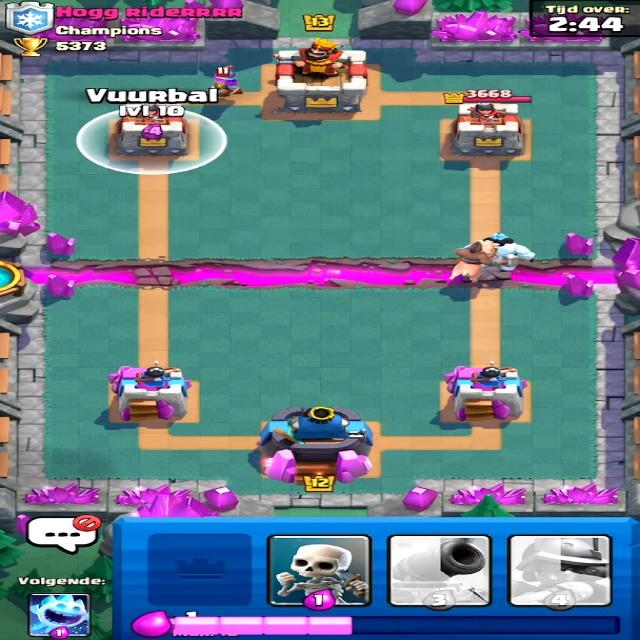Cannon_Card: (385, 533, 495, 606)
Enemy_Musketeer_Troop: (187, 66, 241, 110)
Hog_Rider_Troop: (436, 238, 512, 282)
Ice_Golem_Troop: (475, 233, 542, 272)
Musketeer_Card: (514, 535, 618, 605)
Skeleton_Card: (270, 540, 368, 606)
